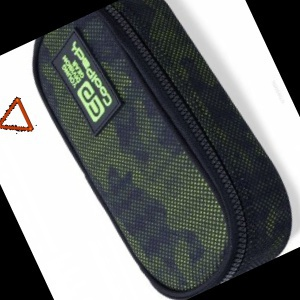triangle: (1, 95, 35, 132)
